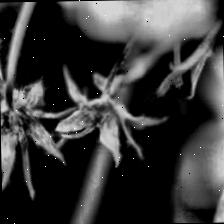Gray Mold: (0, 38, 81, 201), (48, 64, 168, 170)
